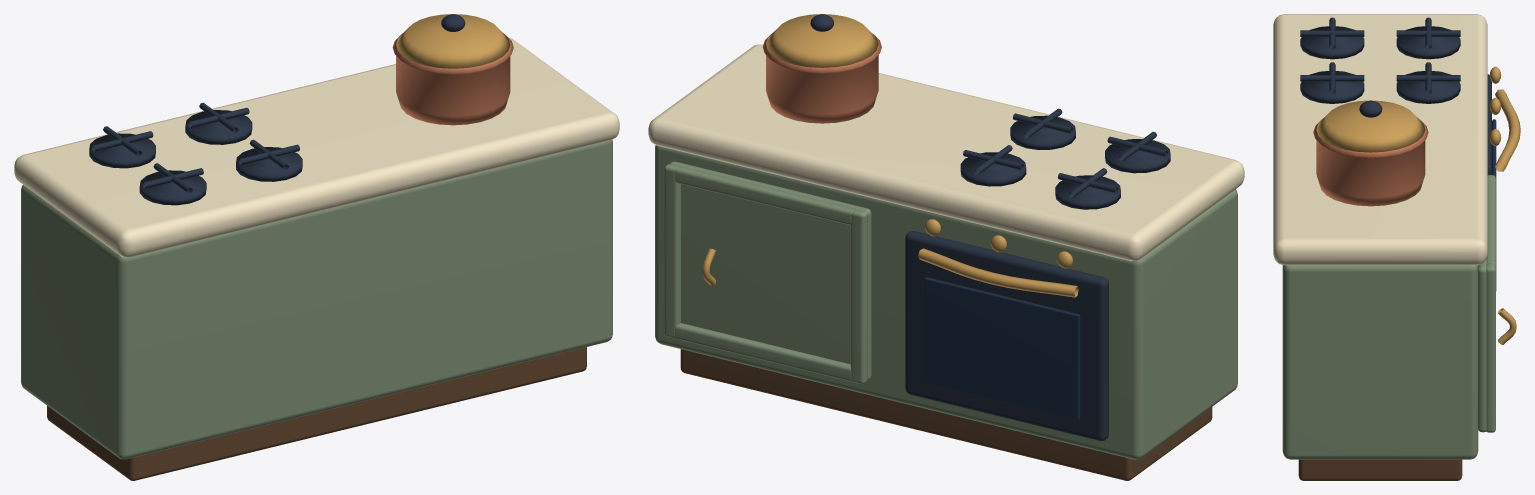
The model's file is stove.glb.
The picture shows the model from 3 angles, left to right: view 1: azimuth 30°, elevation 25°; view 2: azimuth 150°, elevation 25°; view 3: azimuth 270°, elevation 25°; orthographic projection. The views are drawn at different scales.
Visible parts, largest first — view 1: House_stove; view 2: House_stove; view 3: House_stove.
Boxes of the visible parts, x1,y1,x2,y2 form: House_stove: [14, 14, 619, 480]; House_stove: [648, 14, 1244, 480]; House_stove: [1273, 14, 1520, 480].
Size of the model in its own units: 1.72 by 1.15 by 0.773.
